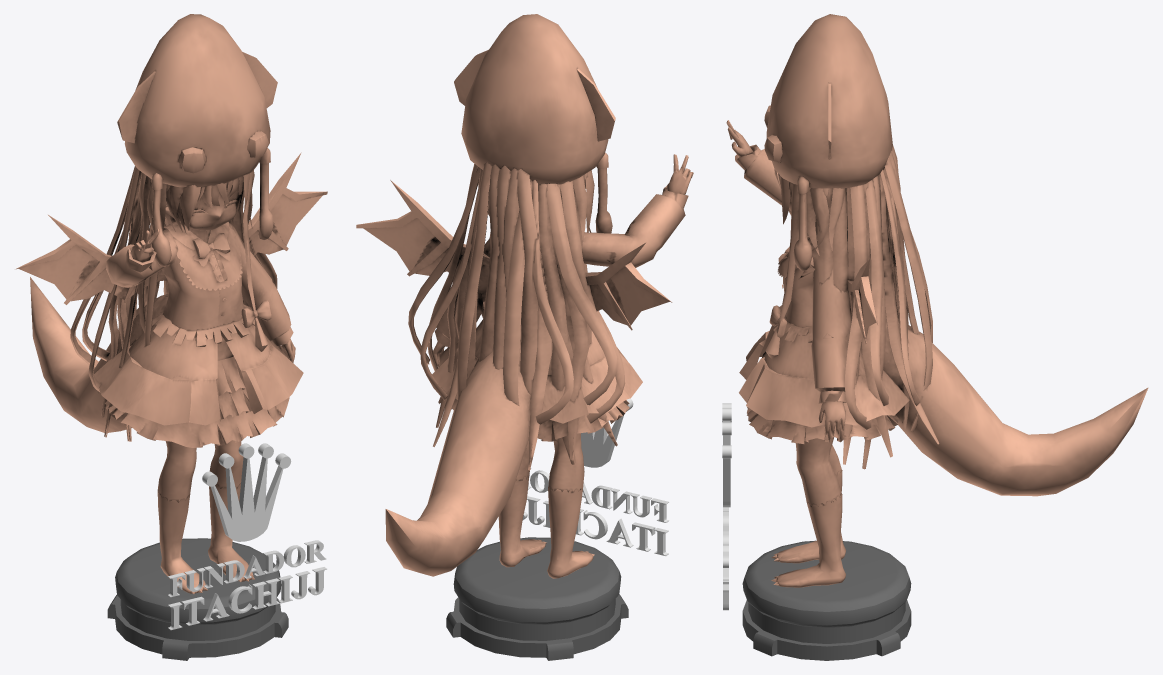
File: estatua-itachijj.fbx
3 views of the same model, side by side, from view 1: azimuth 30°, elevation 25°; view 2: azimuth 150°, elevation 25°; view 3: azimuth 270°, elevation 25° (orthographic).
Parts seen in each view (by area): view 1: ESTATUA-ITACHIJJ-mesh, VRC_pedestal1, Object167, Object168, Text001, Object166, Line006; view 2: ESTATUA-ITACHIJJ-mesh, VRC_pedestal1, Text001, Object166, Line006; view 3: ESTATUA-ITACHIJJ-mesh, VRC_pedestal1, Object166, Line006, Text001.
Part boxes in pixels (box(x1,y1,x2,y2)): ESTATUA-ITACHIJJ-mesh: box(15, 14, 327, 594); VRC_pedestal1: box(107, 538, 288, 660); Object167: box(207, 446, 291, 541); Object168: box(170, 542, 326, 630); Text001: box(167, 540, 326, 629); Object166: box(120, 599, 275, 640); Line006: box(202, 443, 288, 537); ESTATUA-ITACHIJJ-mesh: box(356, 14, 693, 578); VRC_pedestal1: box(446, 537, 628, 660); Text001: box(522, 468, 668, 555); Object166: box(459, 599, 615, 640); Line006: box(581, 398, 633, 467); ESTATUA-ITACHIJJ-mesh: box(726, 14, 1148, 587); VRC_pedestal1: box(742, 540, 911, 660); Object166: box(748, 602, 905, 643); Line006: box(722, 403, 731, 507); Text001: box(723, 507, 728, 610).
Bounding box in the file's own units: 0.7118 × 1.31 × 0.8294.
2 materials, 1 textured.
